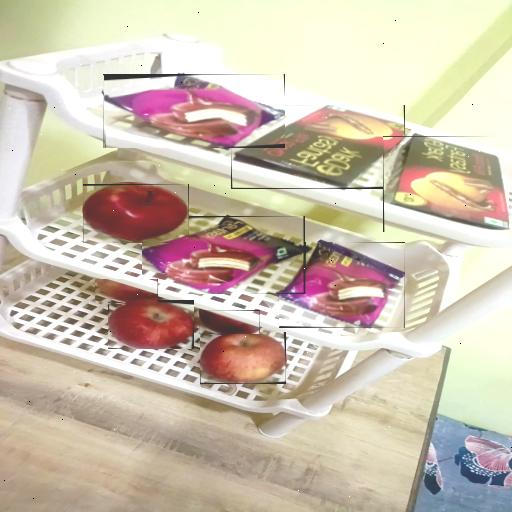Apple: (83, 184, 189, 243), (200, 332, 286, 384), (108, 300, 194, 349), (95, 280, 158, 304), (199, 310, 260, 334)
Choco Fills: (231, 105, 405, 189), (383, 136, 509, 232)
Choco Pie: (102, 74, 284, 148), (142, 216, 305, 294), (278, 242, 404, 328)
